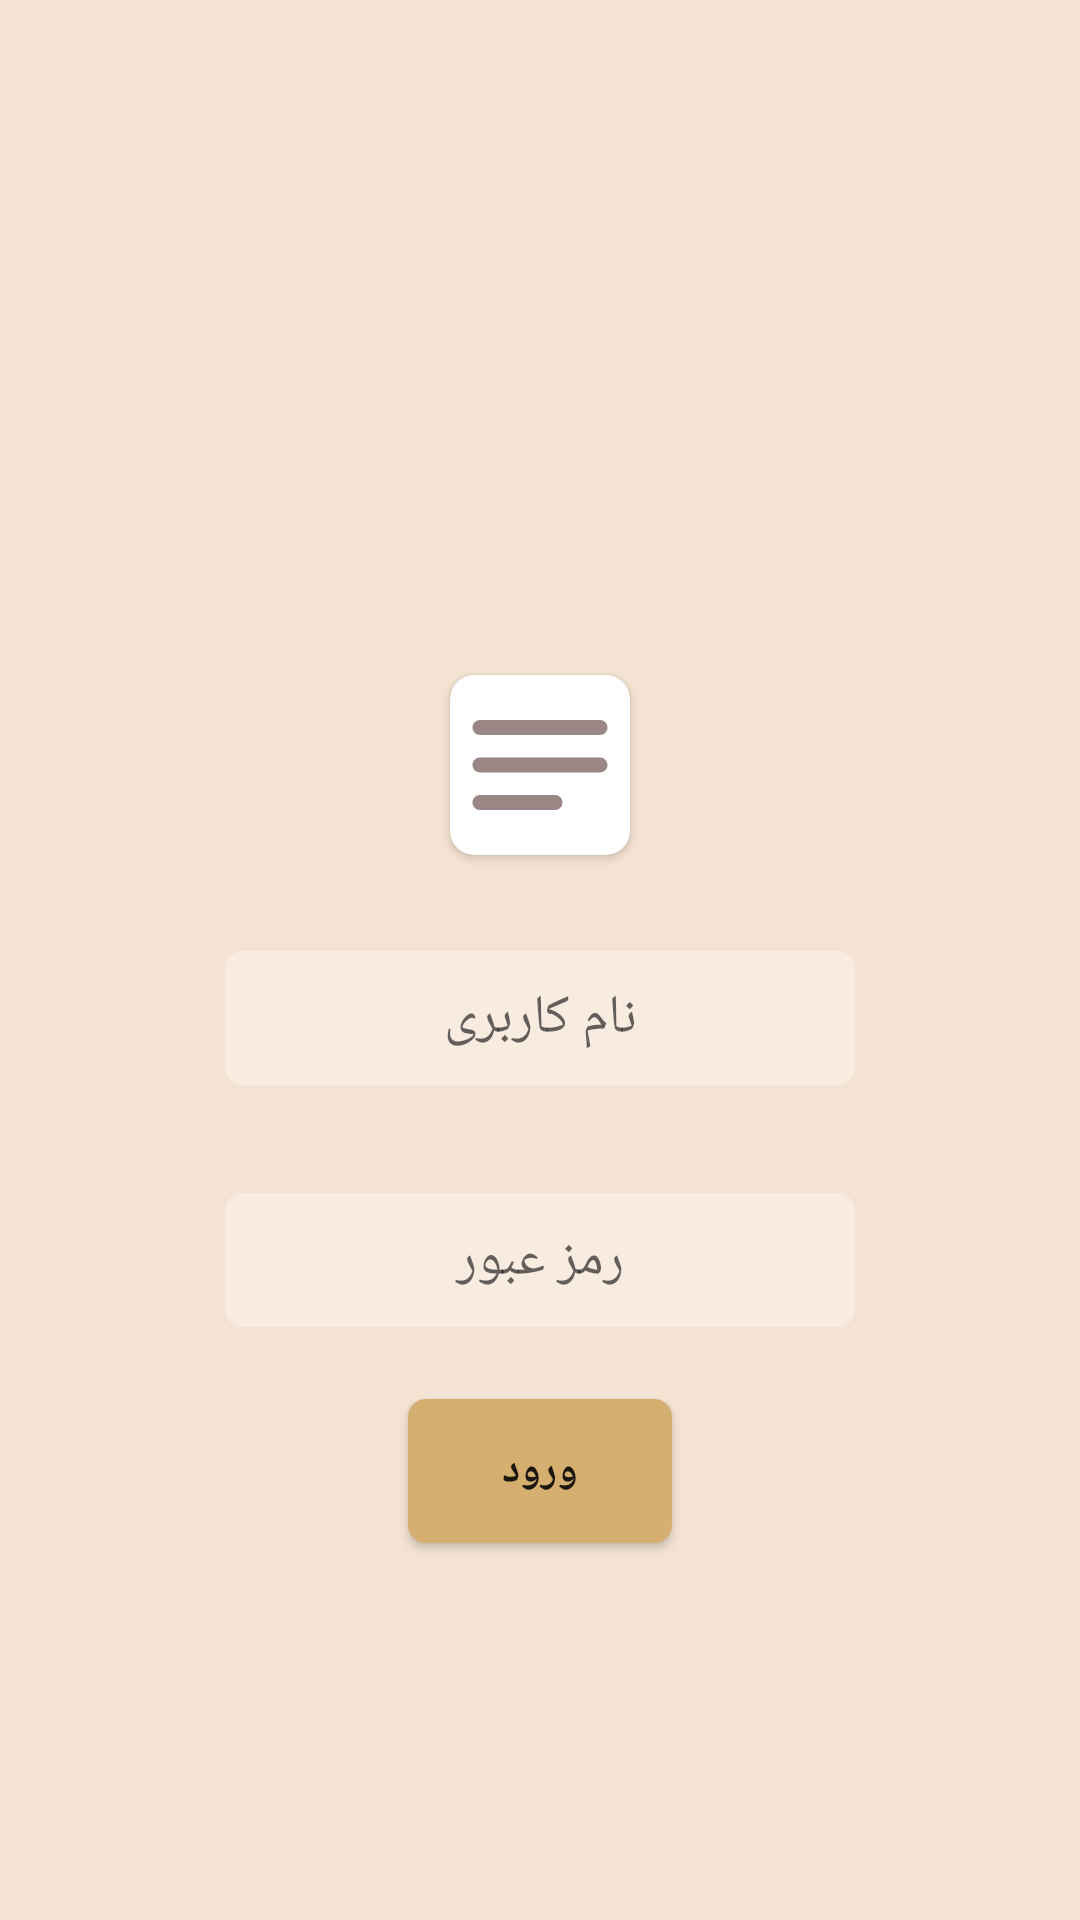

Icon bounding boxes for this 1080 x 1920 phone screenshot, format [left=x1, top=y1, right=x2, bottom=y2]:
notes: [left=450, top=675, right=630, bottom=855]
